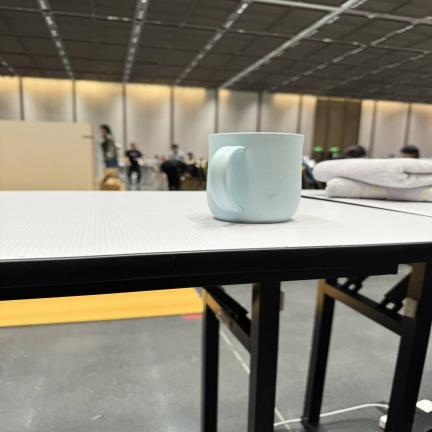cup: (207, 133, 304, 223)
